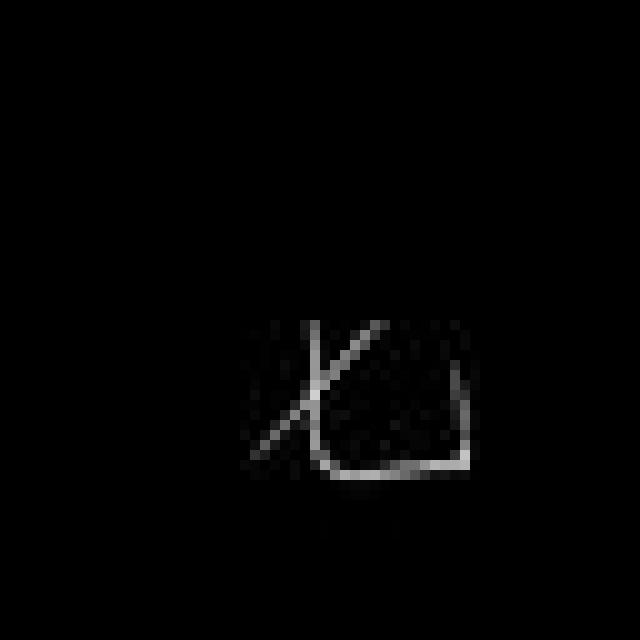7 -seven-: (245, 302, 488, 494)
